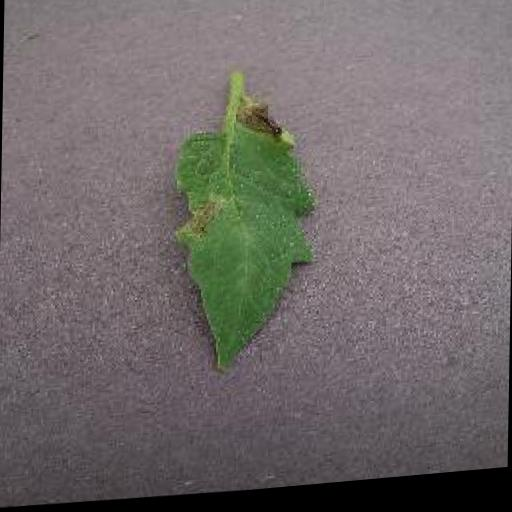Late Blight: (170, 95, 318, 386)
